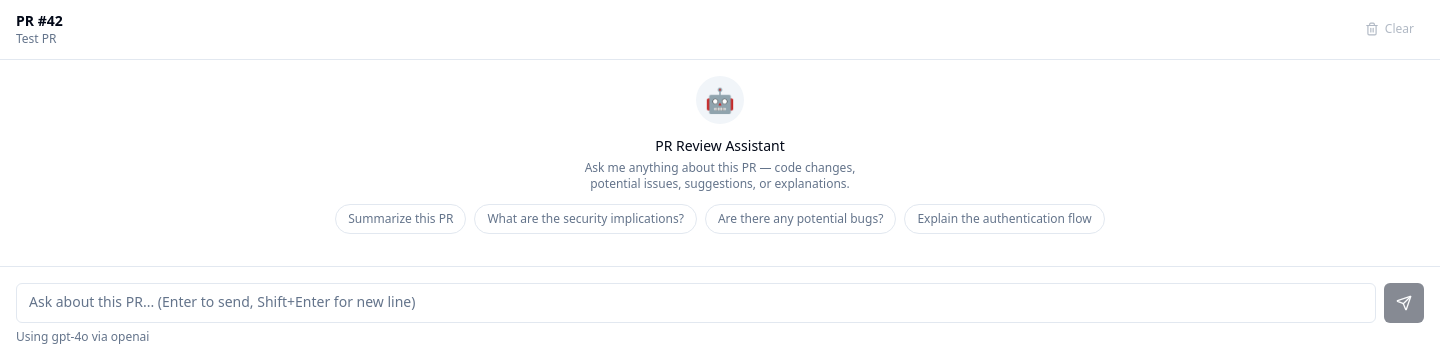
Test: ChatWindow status and errors › shows provider 4xx errors in the assistant message bubble
Replace the text in the text box with placeholder "Ask about this PR" with "Please review this". click: [696, 303]
box: x1=16 y1=283 x2=1376 y2=323
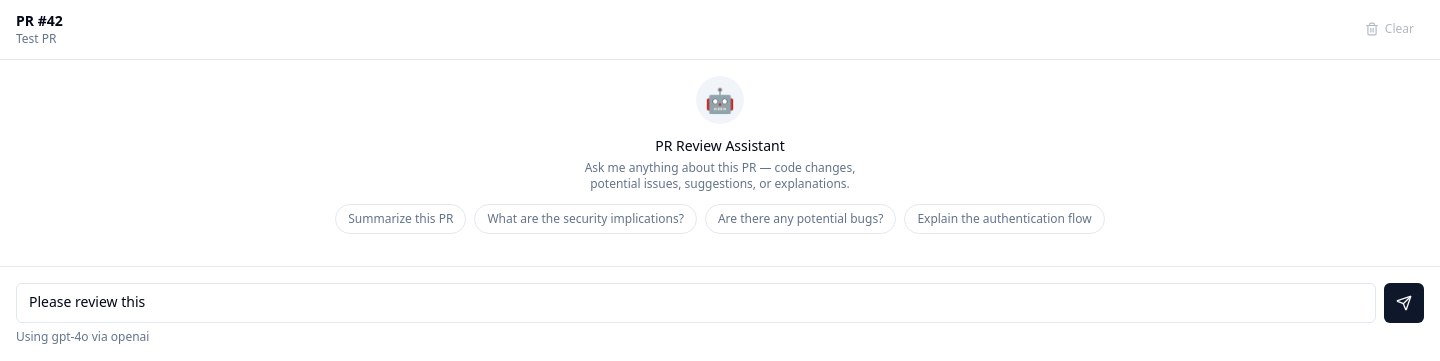
Click the button titled "Send message". click: [1404, 303]
box: x1=1384 y1=283 x2=1424 y2=323
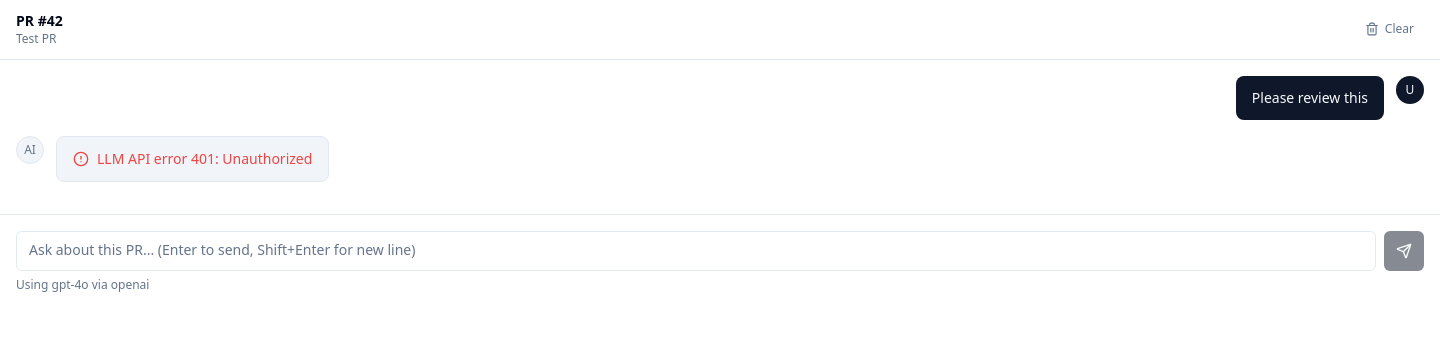
Check: the text "LLM API error 401: Unauthorized" is shown, box x1=97 y1=149 x2=312 y2=169
